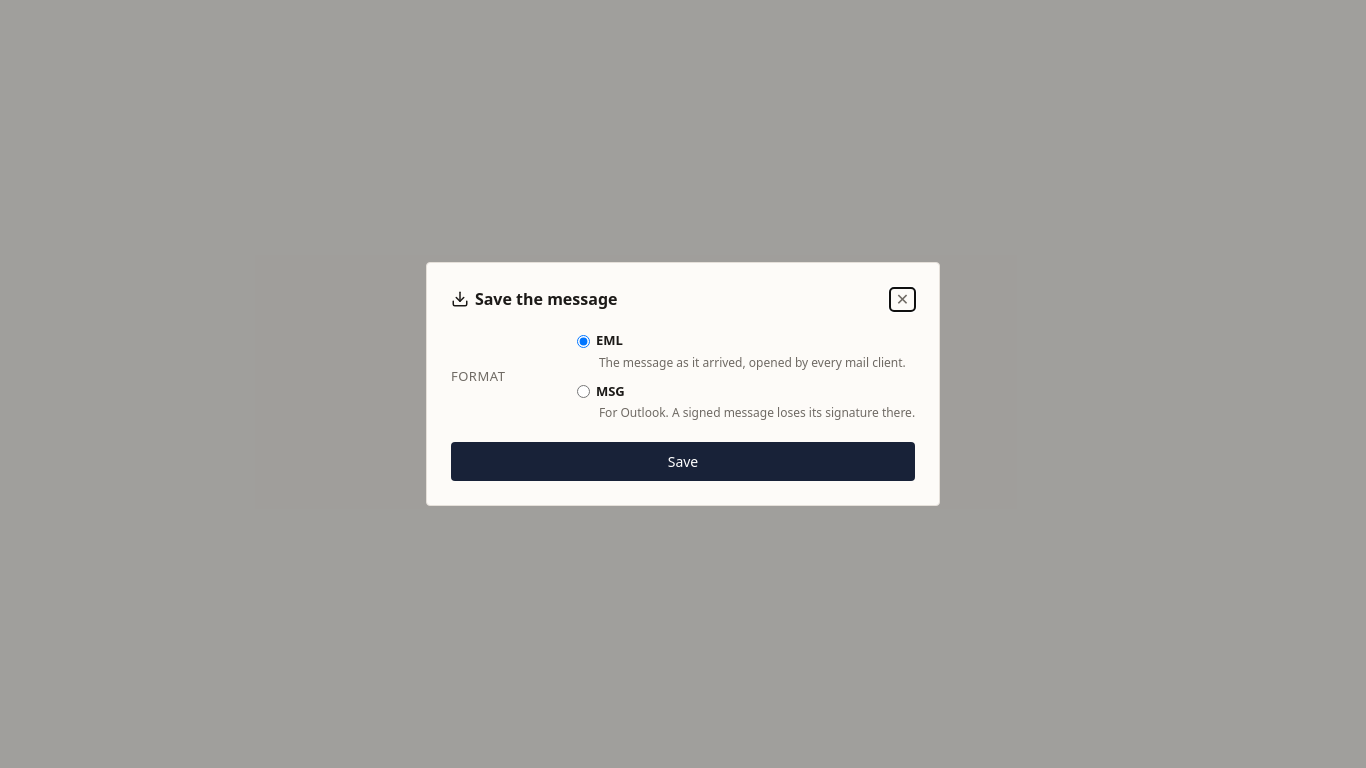
Test: SaveMessageModal › keeps the dialog open on a refusal and says so
Step 1. Click the button "Save" → click(683, 461), box x1=451 y1=442 x2=915 y2=480
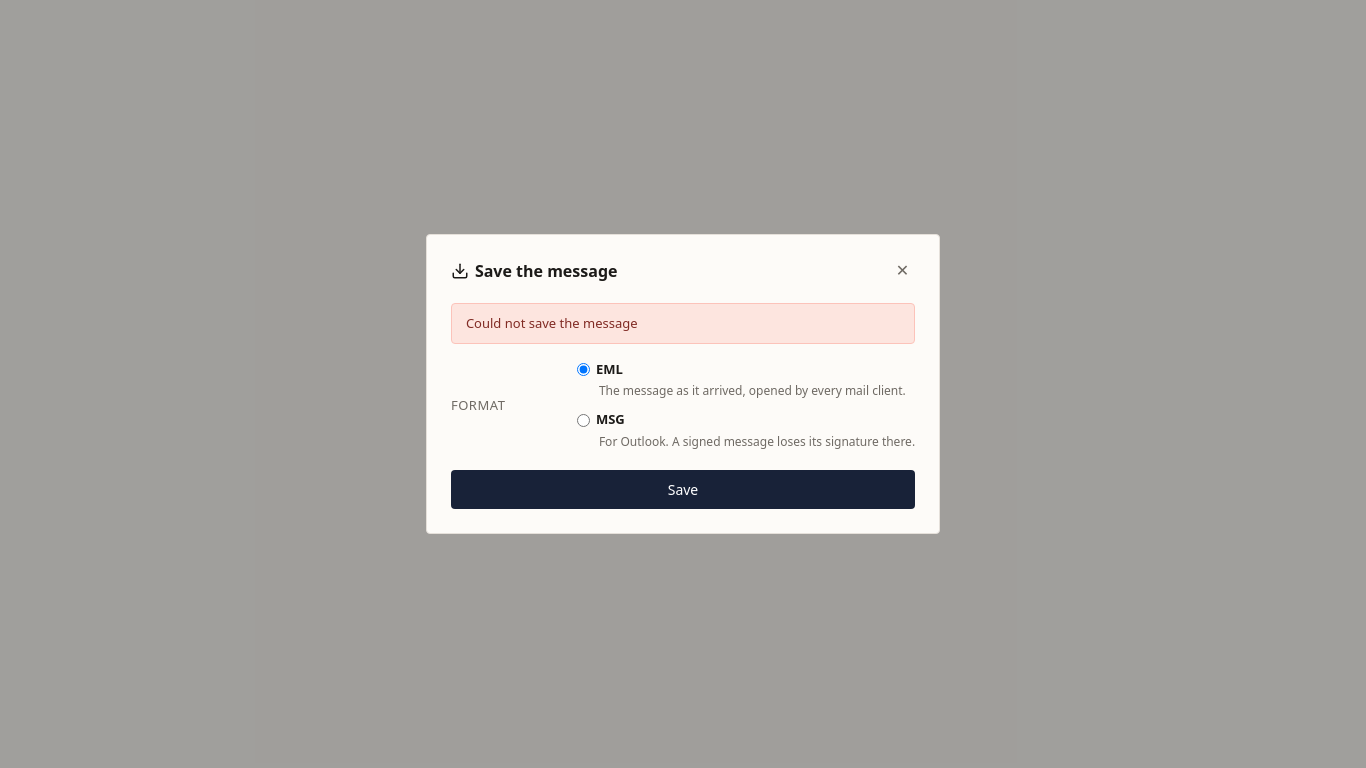
Expected: the button "Save" is enabled, x1=451 y1=470 x2=915 y2=509
Expected: the message reads "Could not save the message", x1=466 y1=314 x2=638 y2=332
